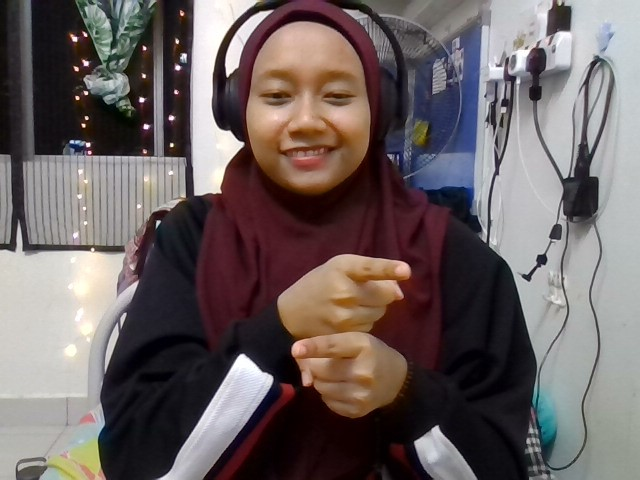Betul: (291, 253, 411, 420)
